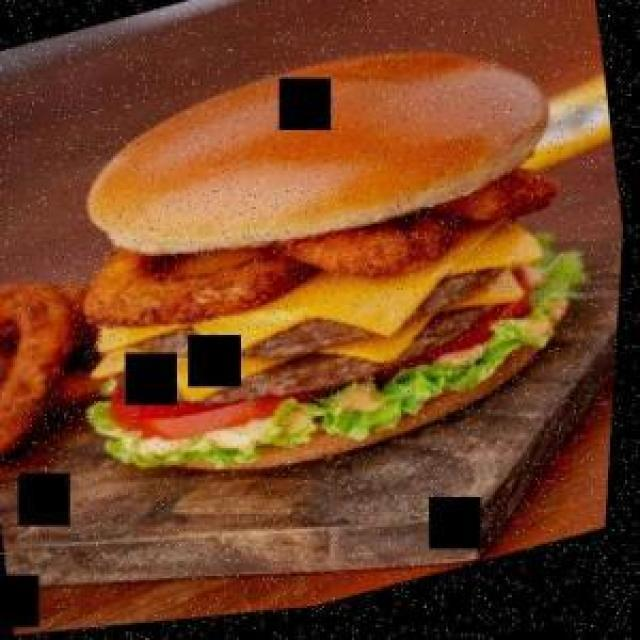Burger: (83, 48, 553, 255), (0, 279, 94, 456)
